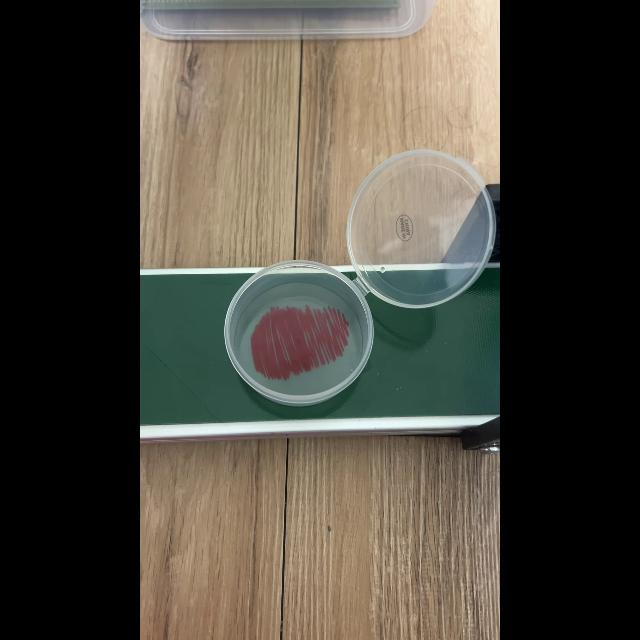dirty: (237, 270, 361, 392)
